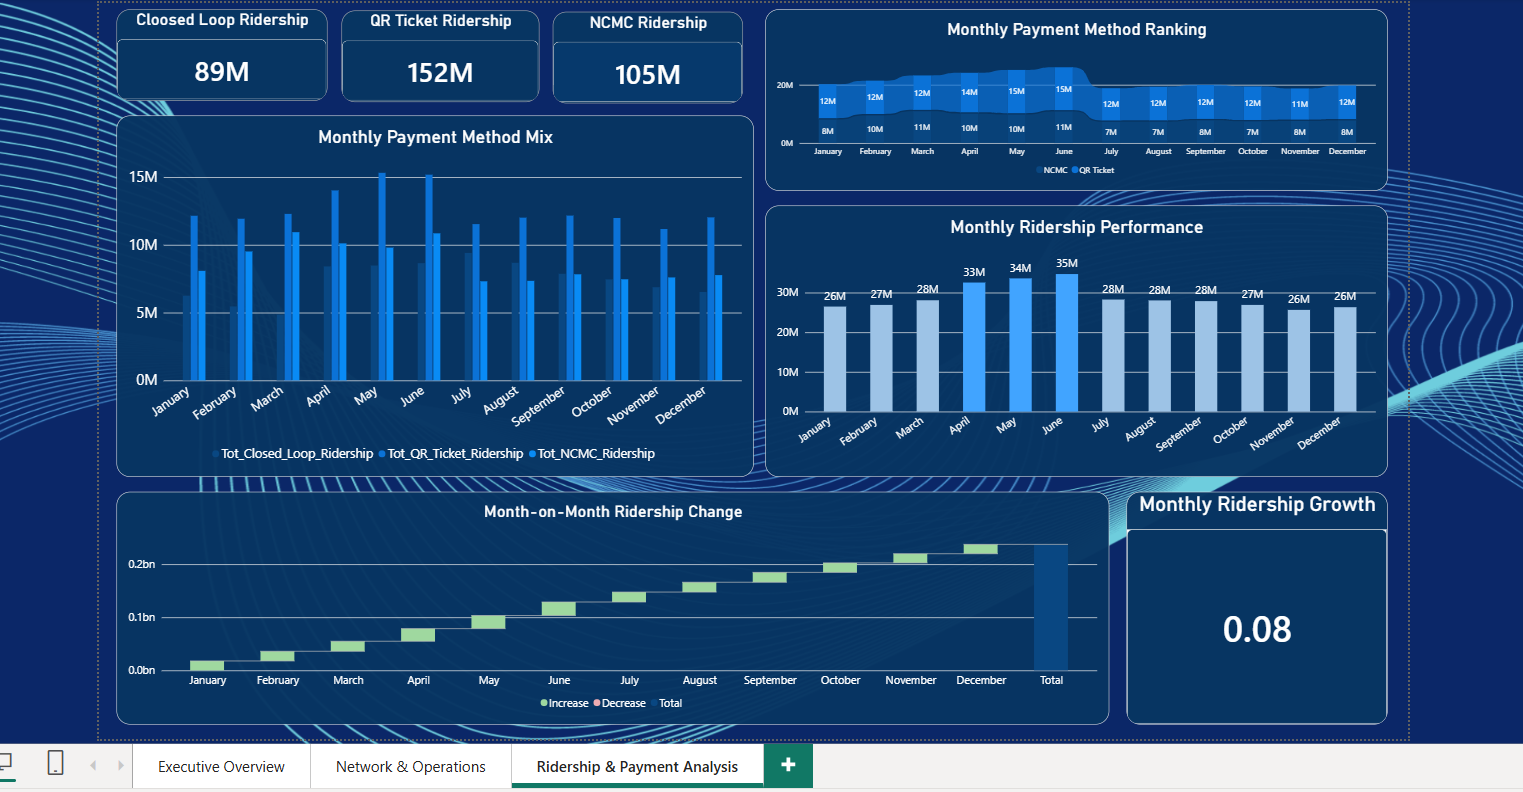

The dashboard page shown, as its layout file describes it:
{"tool":"powerbi","page":{"name":"Ridership & Payment Analysis","canvas":[1920,1080],"ordinal":2},"visuals":[{"type":"group","id":"g1","title":"Group 1","box":[26,8.7,919.8,136.3],"z":0},{"type":"cardVisual","title":"Cloosed Loop Ridership","fields":{"Data":["Sum(cmrl-metro-ridership-2023-26.Closed Loop (Ridership))"]},"box":[26,8.7,309.4,134.1],"z":0,"group":"g1"},{"type":"cardVisual","title":"QR Ticket Ridership","fields":{"Data":["Measures_table.Tot_QR_Ticket_Ridership"]},"box":[355.9,10.9,290.5,134.1],"z":1000,"group":"g1"},{"type":"clusteredColumnChart","title":"Monthly Payment Method Mix","fields":{"Category":["cmrl-metro-ridership-2023-26.Month.Variation.Date Hierarchy.Month"],"Y":["Measures_table.Tot_Closed_Loop_Ridership","Measures_table.Tot_QR_Ticket_Ridership","Measures_table.Tot_NCMC_Ridership"]},"box":[26,164.5,934.9,530.2],"z":1000},{"type":"cardVisual","title":"NCMC Ridership","fields":{"Data":["Measures_table.Tot_NCMC_Ridership"]},"box":[666.4,11.5,279.4,134.1],"z":2000,"group":"g1"},{"type":"columnChart","title":"Monthly Ridership Performance","fields":{"Category":["cmrl-metro-ridership-2023-26.Month.Variation.Date Hierarchy.Month"],"Y":["Measures_table.Total_passanger_flow"]},"box":[978.2,296.5,913.3,398.2],"z":2000},{"type":"waterfallChart","title":"Month-on-Month Ridership Change","fields":{"Category":["cmrl-metro-ridership-2023-26.Month.Variation.Date Hierarchy.Month"],"Y":["Measures_table.Monthly Ridership Change"]},"box":[26,716.3,1456.5,341.9],"z":3000},{"type":"ribbonChart","title":"Monthly Payment Method Ranking","fields":{"Category":["cmrl-metro-ridership-2023-26.Month.Variation.Date Hierarchy.Month"],"Series":["Payment Method Ridership.Payment Method"],"Y":["Measures_table.Payment Method Ridership"]},"box":[978.2,8.7,913.3,266.2],"z":4000},{"type":"cardVisual","title":"Monthly Ridership Growth","fields":{"Data":["Measures_table.Ridershiip Growth %"]},"box":[1508.4,716.3,383.1,341.9],"z":5000}]}

Visuals, with their boxes on the page's 1920x1080 design canvas (x1, y1, x2, y2). These are canvas units, not pixel positions in the 1523x792 screenshot, which may show the page scaled, cropped or inside an application window:
"Group 1" group: (26,9,946,145)
"Cloosed Loop Ridership" cardVisual: (26,9,335,143)
"QR Ticket Ridership" cardVisual: (356,11,646,145)
"Monthly Payment Method Mix" clusteredColumnChart: (26,164,961,695)
"NCMC Ridership" cardVisual: (666,12,946,146)
"Monthly Ridership Performance" columnChart: (978,296,1892,695)
"Month-on-Month Ridership Change" waterfallChart: (26,716,1482,1058)
"Monthly Payment Method Ranking" ribbonChart: (978,9,1892,275)
"Monthly Ridership Growth" cardVisual: (1508,716,1892,1058)
